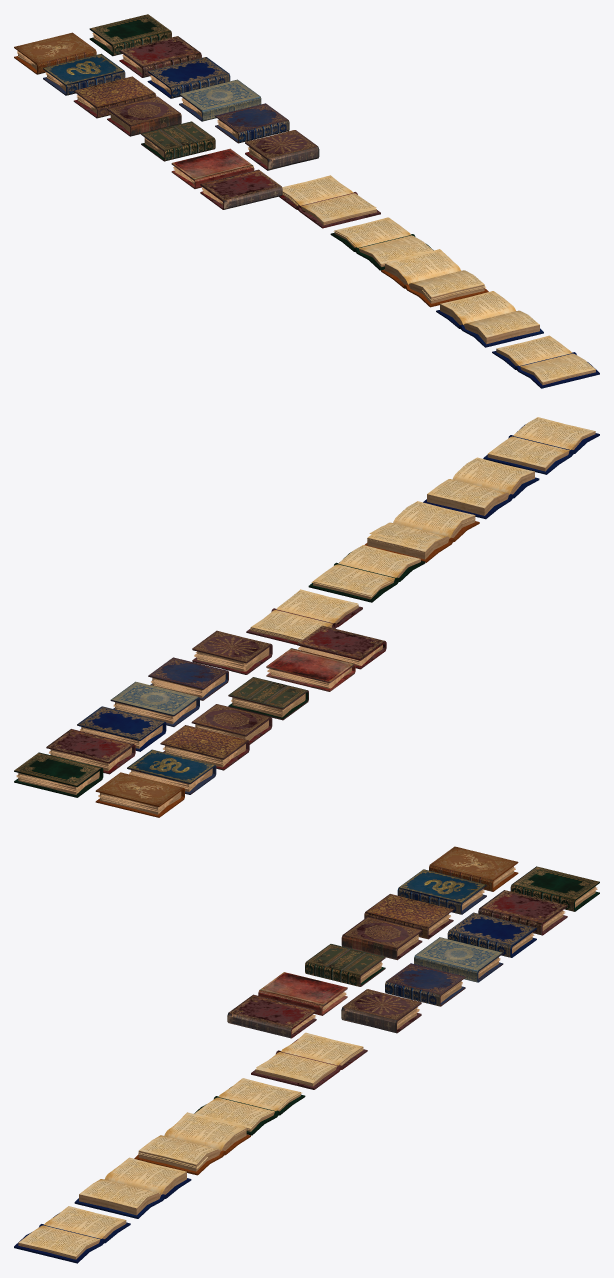
File: Books.fbx
The picture shows the model from 3 angles, top to bottom: view 1: azimuth 30°, elevation 25°; view 2: azimuth 150°, elevation 25°; view 3: azimuth 330°, elevation 25°; orthographic projection. The views are drawn at different scales.
Visible parts, largest first — view 1: Book_03, Book_02, Book_01, Book_05, Book_04, Book_06, Book_12, Book_14, Book_15, Book_08, Book_18, Book_10 (+6 smaller); view 2: Book_02, Book_03, Book_04, Book_01, Book_05, Book_18, Book_17, Book_07, Book_12, Book_13, Book_08, Book_16 (+6 smaller); view 3: Book_03, Book_02, Book_05, Book_01, Book_04, Book_06, Book_12, Book_14, Book_15, Book_08, Book_18, Book_10 (+6 smaller).
Part boxes in pixels (<box>): Book_03: <box>381,249,488,307</box>; Book_02: <box>436,291,543,347</box>; Book_01: <box>492,335,599,388</box>; Book_05: <box>279,175,380,228</box>; Book_04: <box>330,217,433,270</box>; Book_06: <box>200,169,282,209</box>; Book_12: <box>179,79,261,121</box>; Book_14: <box>147,57,230,98</box>; Book_15: <box>43,53,125,95</box>; Book_08: <box>245,130,319,170</box>; Book_18: <box>89,14,171,56</box>; Book_10: <box>215,103,289,143</box>; Book_02: <box>423,457,539,519</box>; Book_03: <box>364,501,479,562</box>; Book_04: <box>308,545,425,602</box>; Book_01: <box>483,417,599,474</box>; Book_05: <box>246,589,362,644</box>; Book_18: <box>14,752,103,797</box>; Book_17: <box>95,772,184,817</box>; Book_07: <box>266,648,355,691</box>; Book_12: <box>110,681,199,726</box>; Book_13: <box>160,725,249,770</box>; Book_08: <box>192,630,272,674</box>; Book_16: <box>46,729,135,774</box>; Book_03: <box>134,1112,250,1175</box>; Book_02: <box>74,1157,191,1218</box>; Book_05: <box>251,1032,367,1089</box>; Book_01: <box>14,1206,130,1263</box>; Book_04: <box>194,1078,305,1135</box>; Book_06: <box>227,994,316,1038</box>; Book_12: <box>414,937,503,982</box>; Book_14: <box>447,912,536,957</box>; Book_15: <box>397,869,486,914</box>; Book_08: <box>341,989,421,1033</box>; Book_18: <box>510,866,599,911</box>; Book_10: <box>385,963,465,1006</box>.
Size of the model in its own units: 72.52 by 7.92 by 437.
